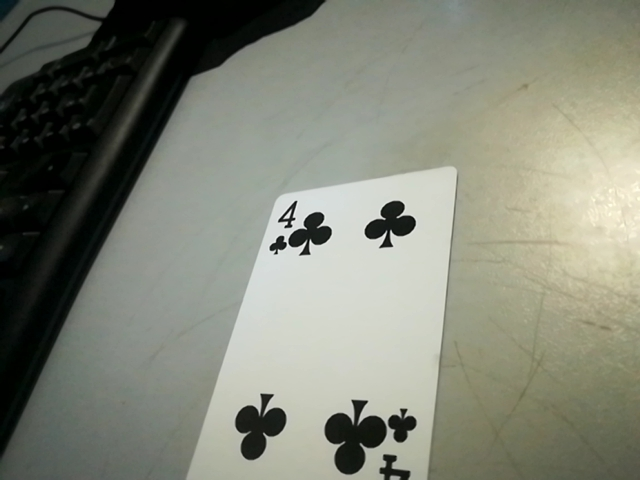mh 4: (249, 191, 298, 266)
